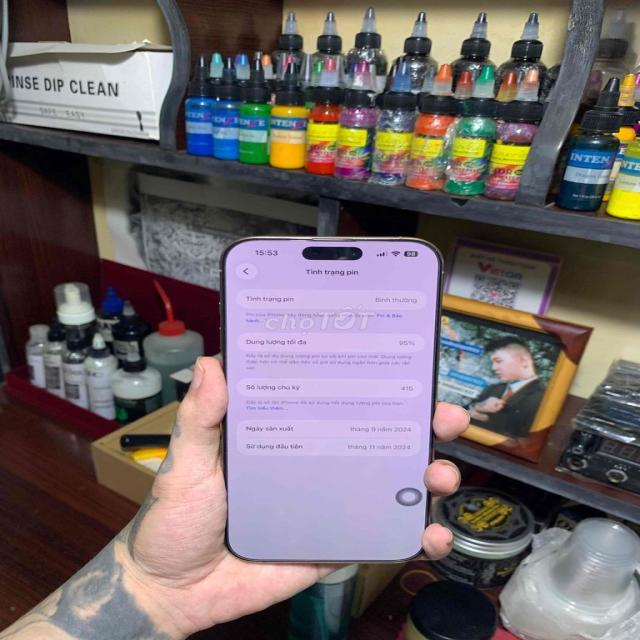gen_16: (221, 236, 442, 563)
